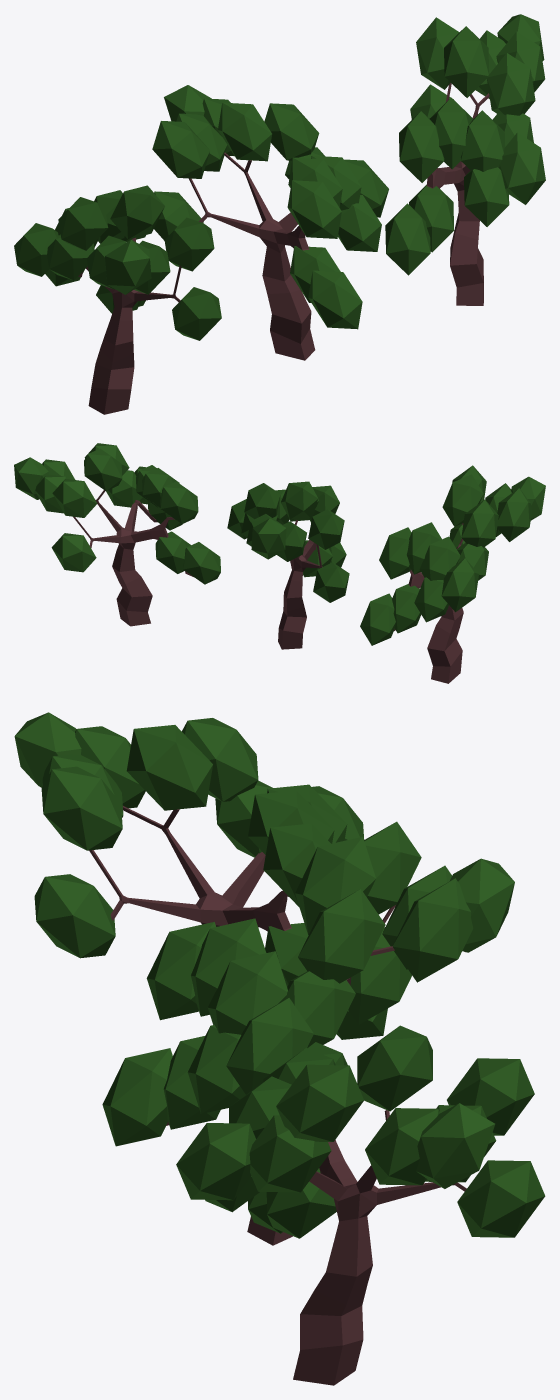
Rendered from Huge_Trees_Cluster.glb.
3 views of the same model, one above another, from view 1: azimuth 30°, elevation 25°; view 2: azimuth 150°, elevation 25°; view 3: azimuth 270°, elevation 25° (orthographic). The views are drawn at different scales.
Parts seen in each view (by area): view 1: Icosphere.001, Icosphere.002, Icosphere.003; view 2: Icosphere.003, Icosphere.002, Icosphere.001; view 3: Icosphere.001, Icosphere.002, Icosphere.003.
Part boxes in pixels (x1,y1,x2,y2): Icosphere.001: (152,85,388,360); Icosphere.002: (385,14,545,305); Icosphere.003: (14,185,221,414); Icosphere.003: (360,465,545,683); Icosphere.002: (14,443,220,626); Icosphere.001: (227,481,349,649); Icosphere.001: (102,821,514,1245); Icosphere.002: (176,1025,545,1385); Icosphere.003: (14,712,387,1039).
Bounding box in the file's own units: 525 × 216 × 282.
